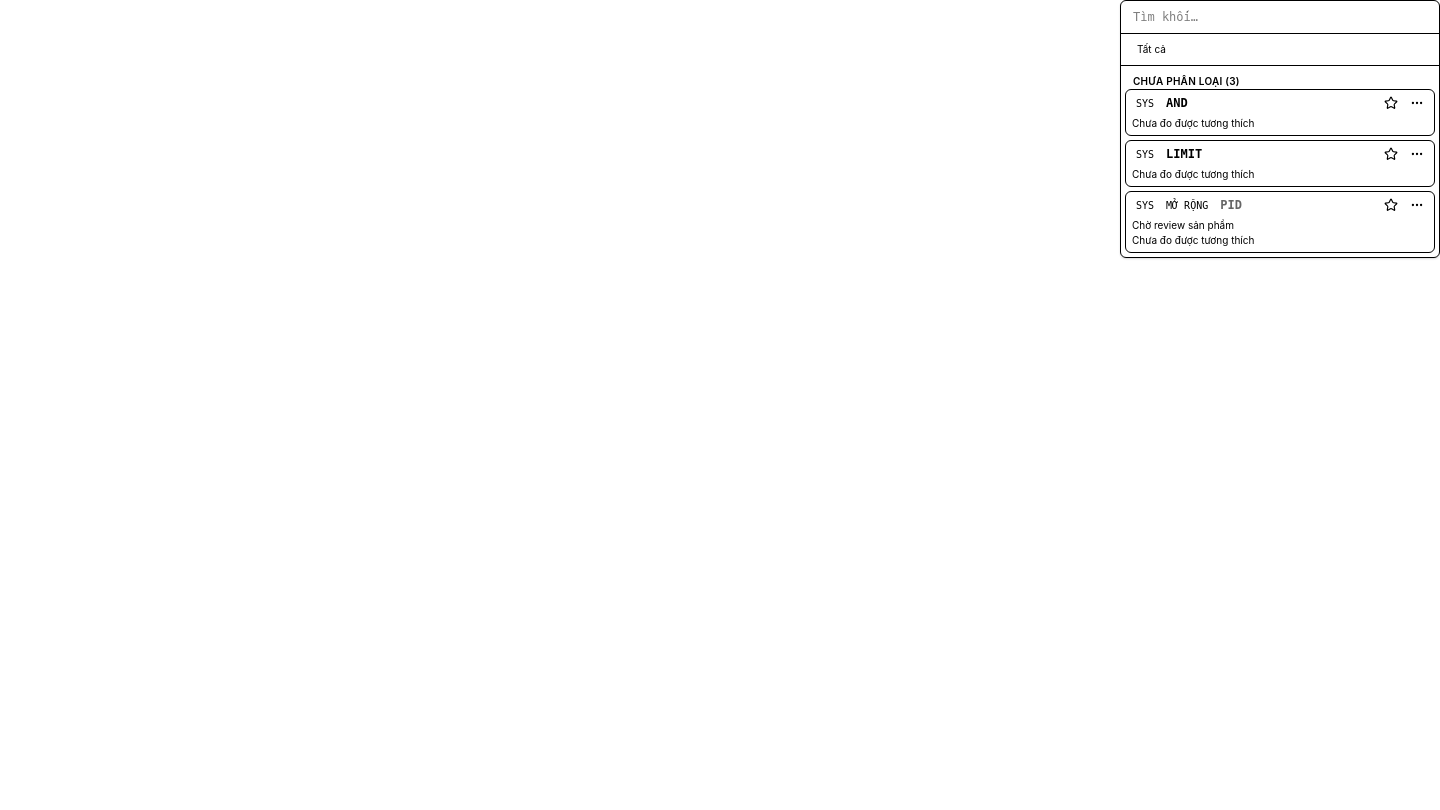
T59-804 — dock dùng chung: bề mặt tự nói mục nào chưa nhận được › DEV-PROG-002: thẻ khối vẽ sơ đồ chân từ chữ ký backend, không tự bịa
Click the button named "Chi tiết LIMIT": (1417, 154) [1406, 143, 1428, 165]
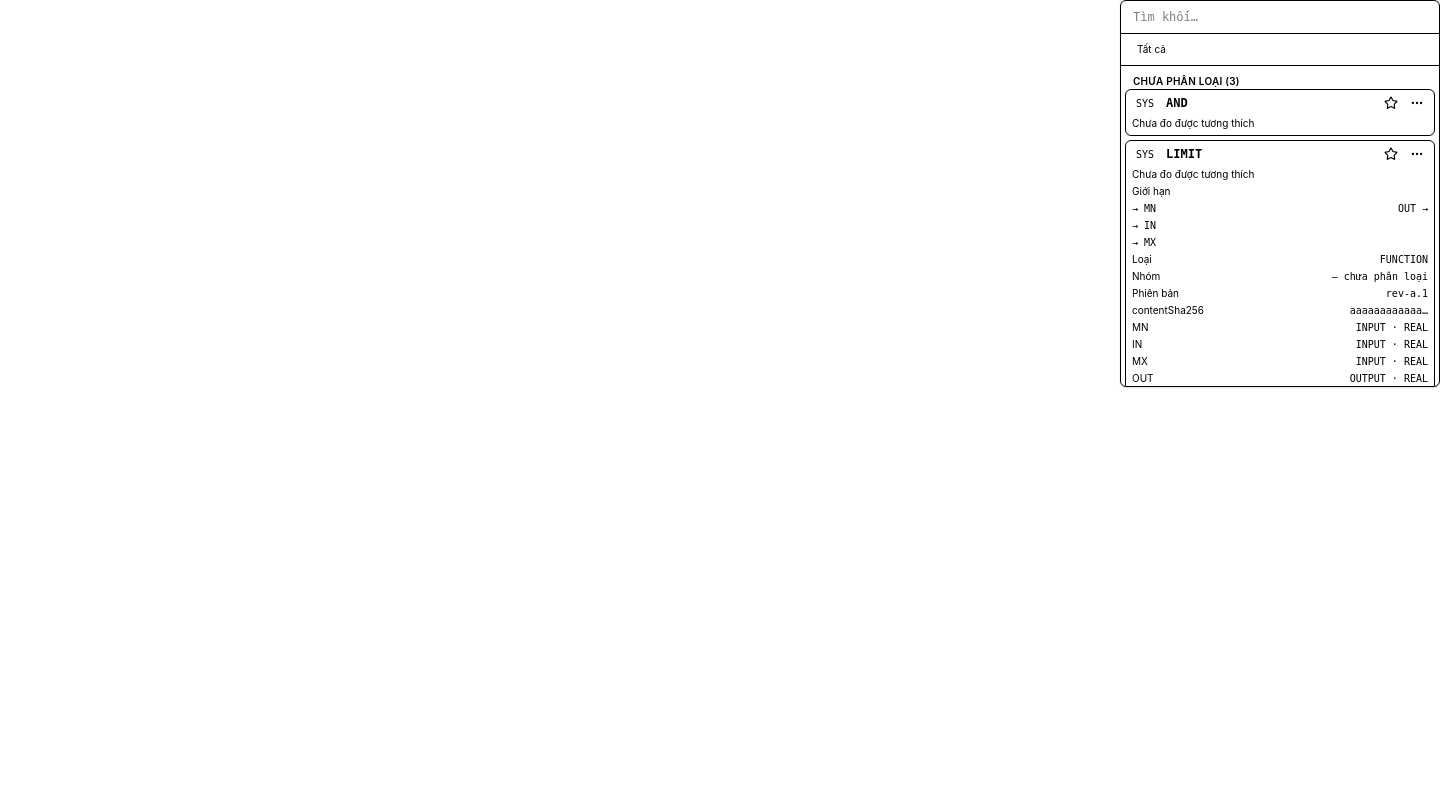
Expected: the text "→ MN" is shown, [1132, 201, 1156, 216]
Expected: the text "→ IN" is shown, [1132, 218, 1156, 233]
Expected: the text "→ MX" is shown, [1132, 235, 1156, 250]
